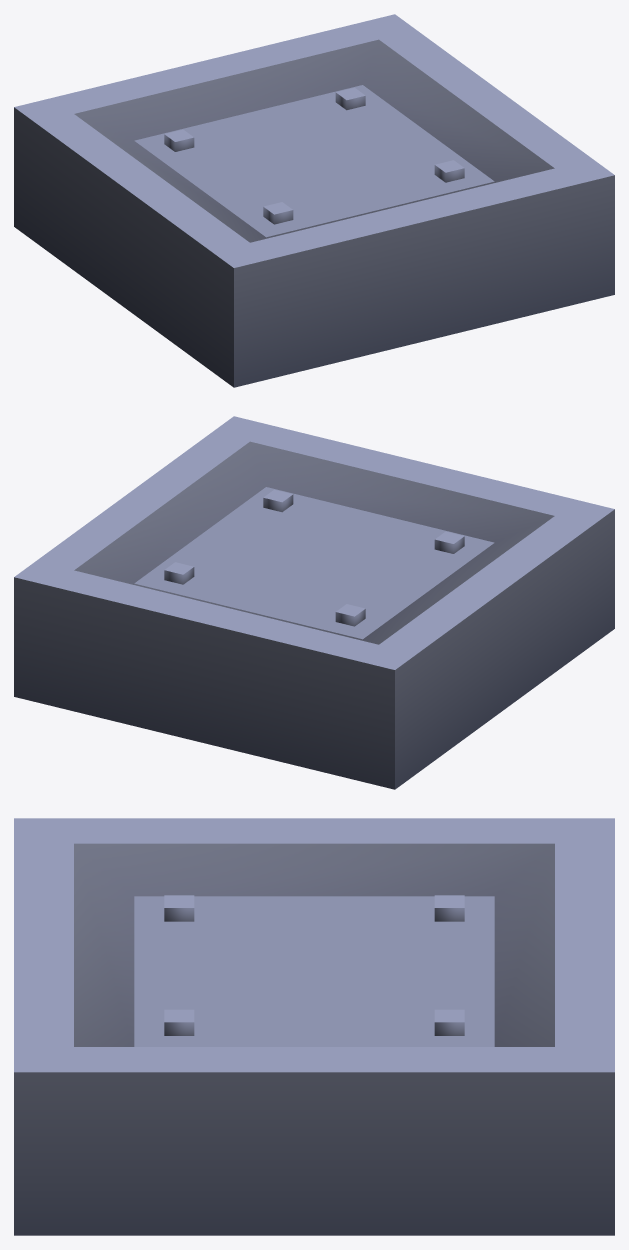
Rendered from floor-panel.glb.
3 renders of one model, top to bottom at view 1: azimuth 30°, elevation 25°; view 2: azimuth 150°, elevation 25°; view 3: azimuth 270°, elevation 25°, orthographic. The views are drawn at different scales.
Visible parts, largest first — view 1: floor-panel; view 2: floor-panel; view 3: floor-panel.
Part boxes in pixels (box(x1,y1,x2,y2)): floor-panel: box(14, 14, 614, 387); floor-panel: box(14, 416, 614, 789); floor-panel: box(14, 818, 614, 1235).
Bounding box in the file's own units: 1 × 0.3 × 1.
